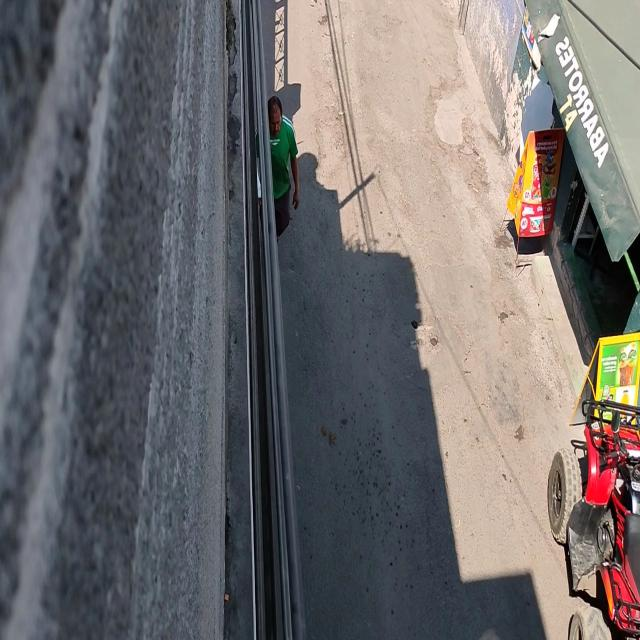adult: (253, 96, 302, 264)
